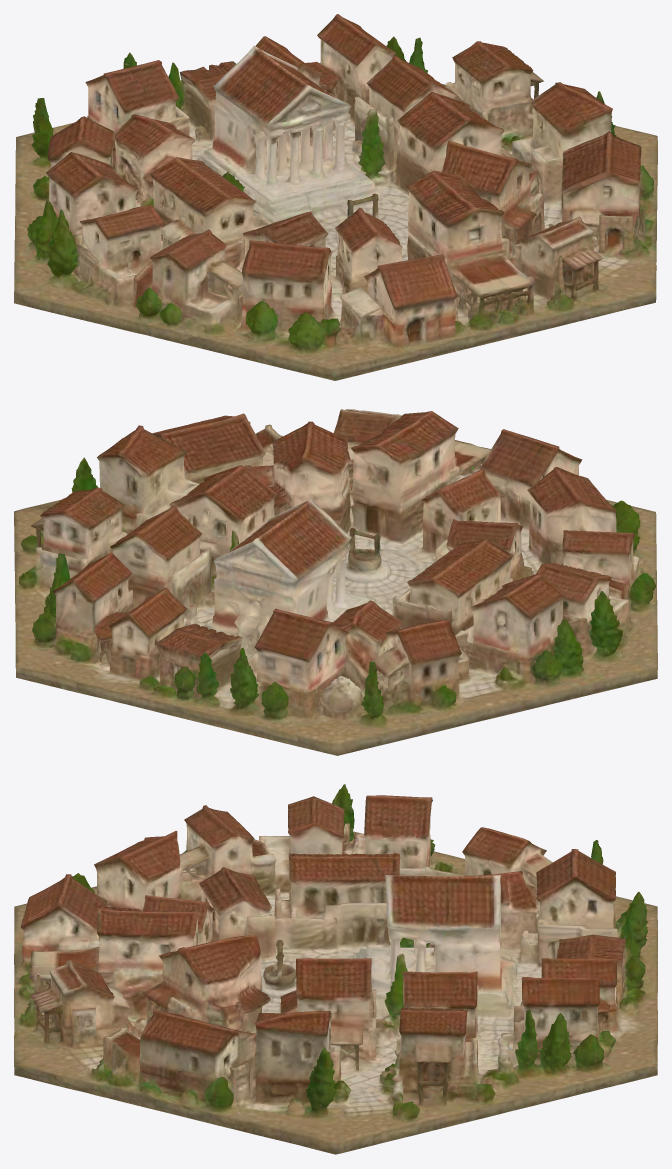
The model's file is rome-l3.glb.
3 renders of one model, top to bottom at view 1: azimuth 30°, elevation 25°; view 2: azimuth 150°, elevation 25°; view 3: azimuth 270°, elevation 25°, orthographic.
Size of the model in its own units: 1.9 by 0.3525 by 1.63.
Materials: 1 (1 with a texture image).
